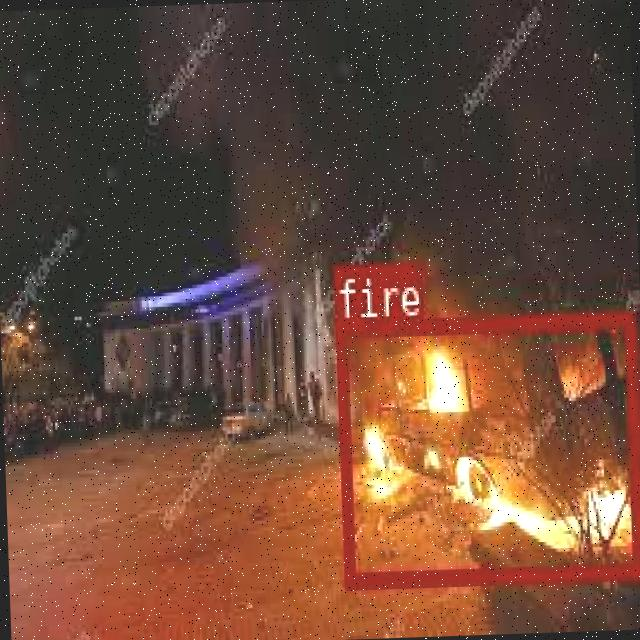fire: (334, 307, 640, 584)
